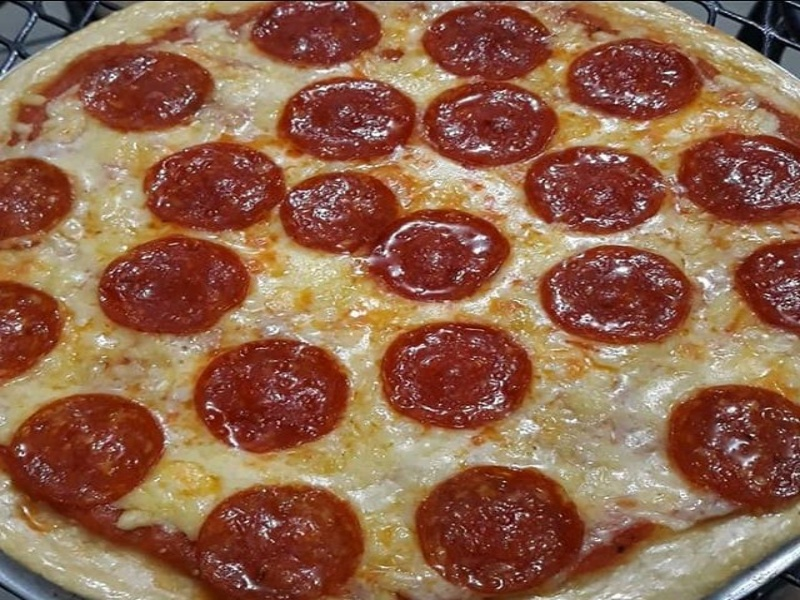peperoni: (413, 464, 586, 595), (195, 484, 365, 600), (192, 337, 351, 458), (377, 319, 541, 436), (665, 383, 800, 519), (8, 393, 167, 505), (538, 245, 691, 348), (97, 237, 251, 331), (371, 208, 513, 305), (521, 143, 665, 238), (142, 141, 284, 234), (421, 78, 560, 171), (561, 36, 705, 120), (79, 47, 215, 134), (678, 132, 800, 227), (276, 82, 418, 158), (282, 168, 400, 257), (421, 4, 556, 79), (249, 1, 383, 67), (1, 277, 65, 386), (1, 155, 74, 245), (736, 237, 800, 338)
